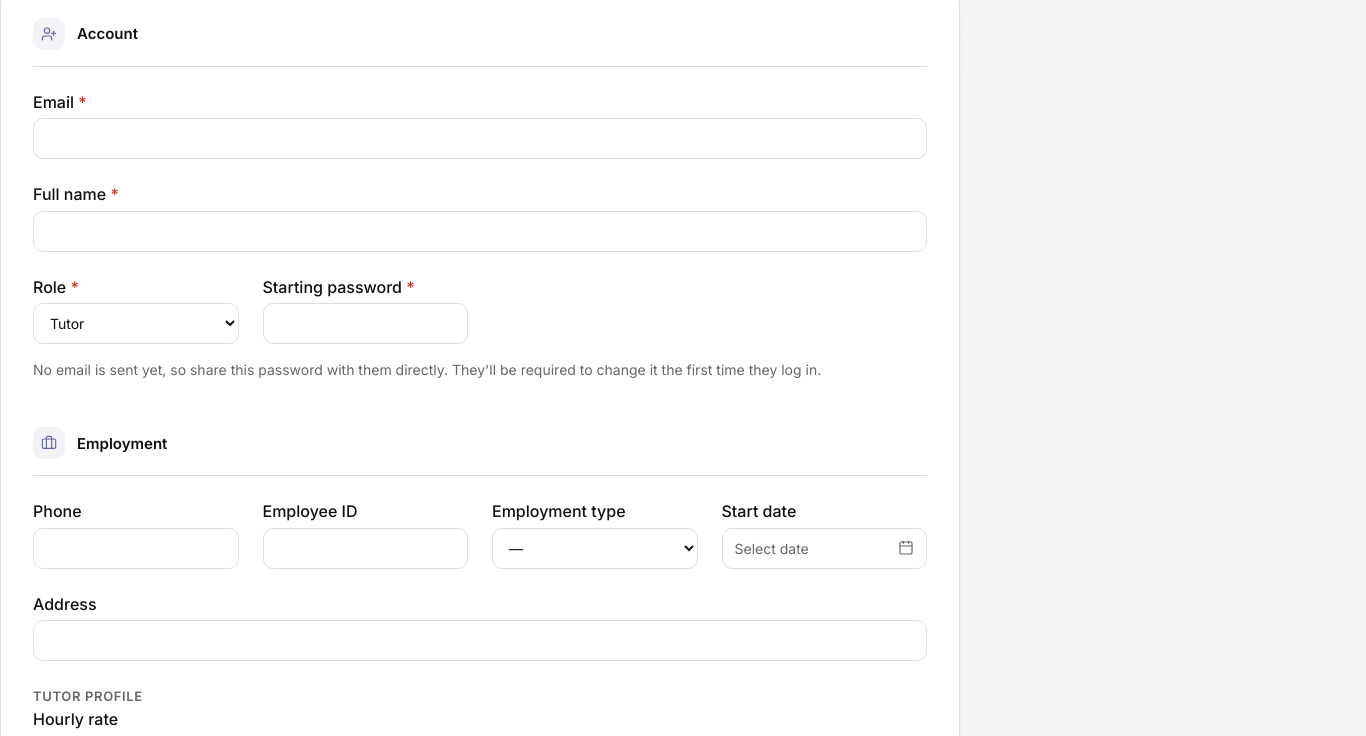
Test: CreateUserPage starting password field › renders a server-side password validation error
Type "a@b.com" into the field labelled "Email" at (480, 139), box [33,118,927,159]
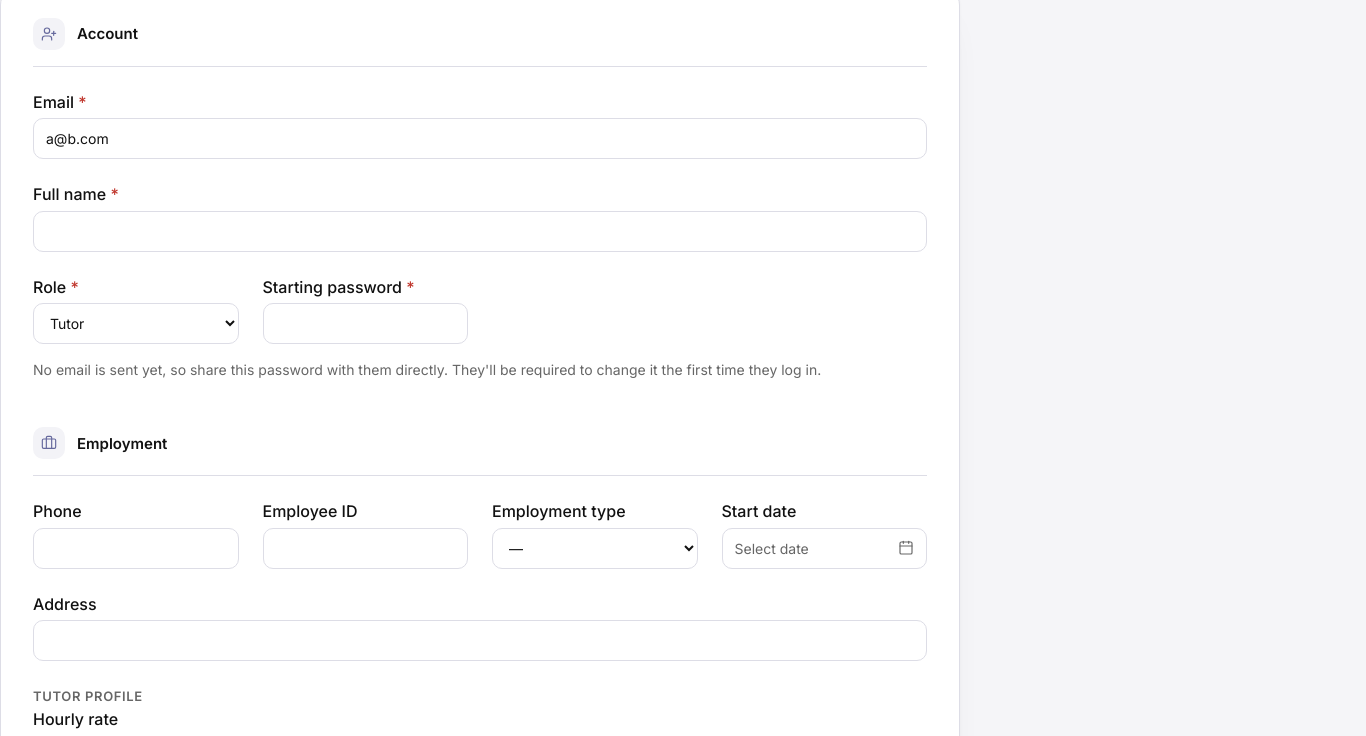
Type "A B" into the field labelled "Full name" at (480, 231), box [33,211,927,252]
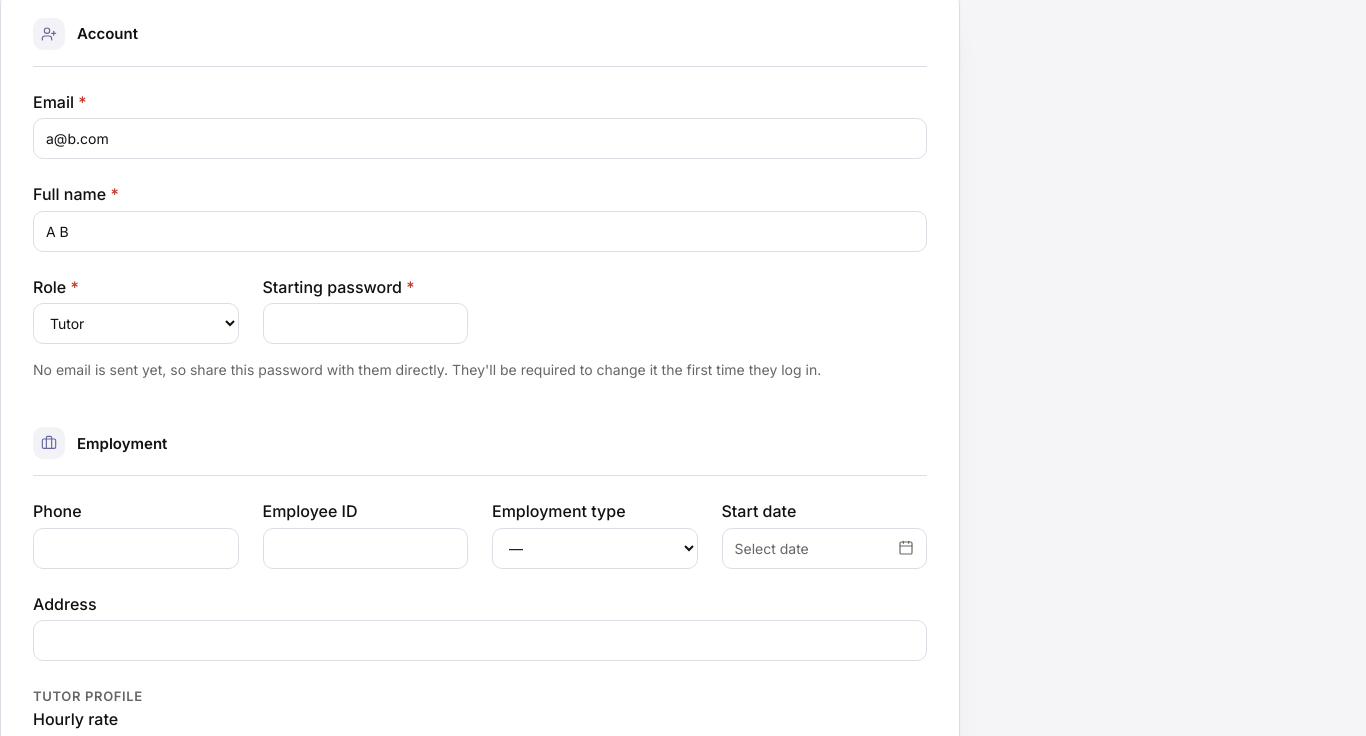
Type "password" into the password field labelled "Starting password" at (365, 324), box [262,303,468,344]
(page scrolled)
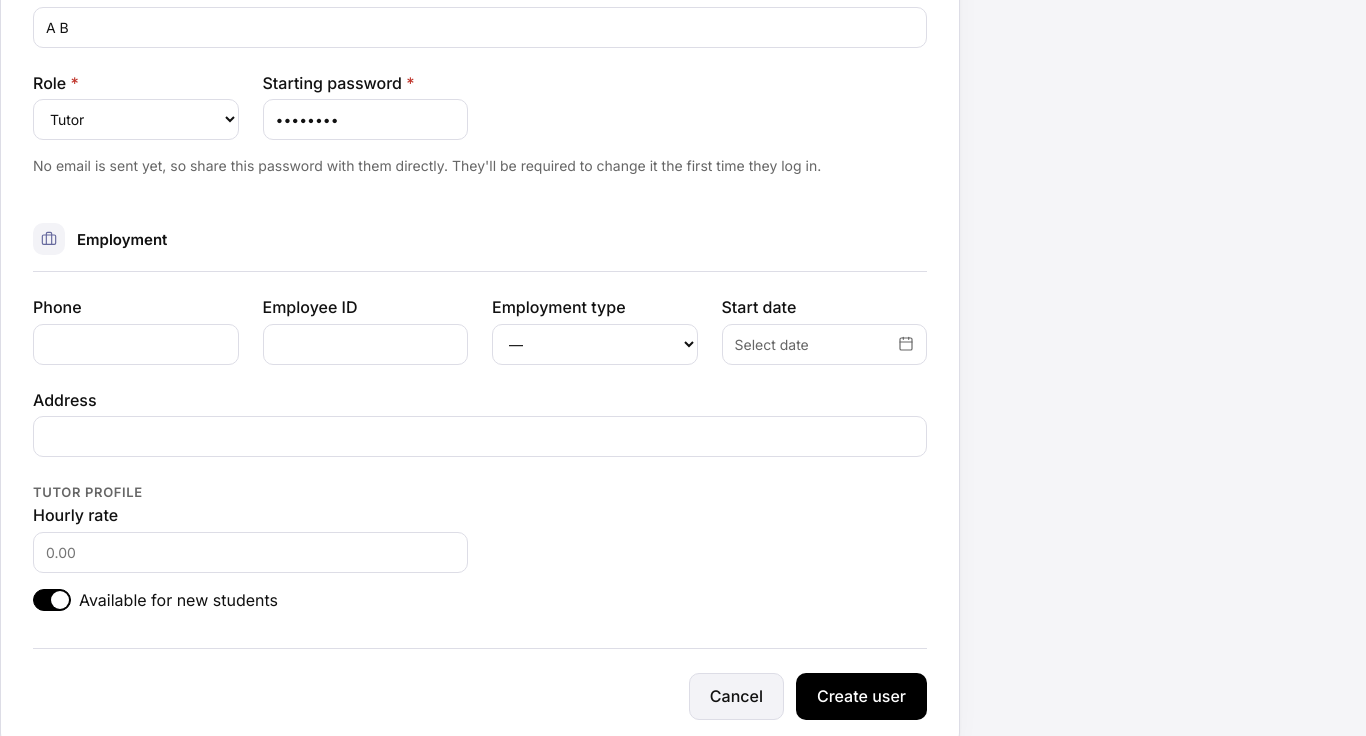
Click the button "Create user" at (862, 697), box [796,673,927,720]
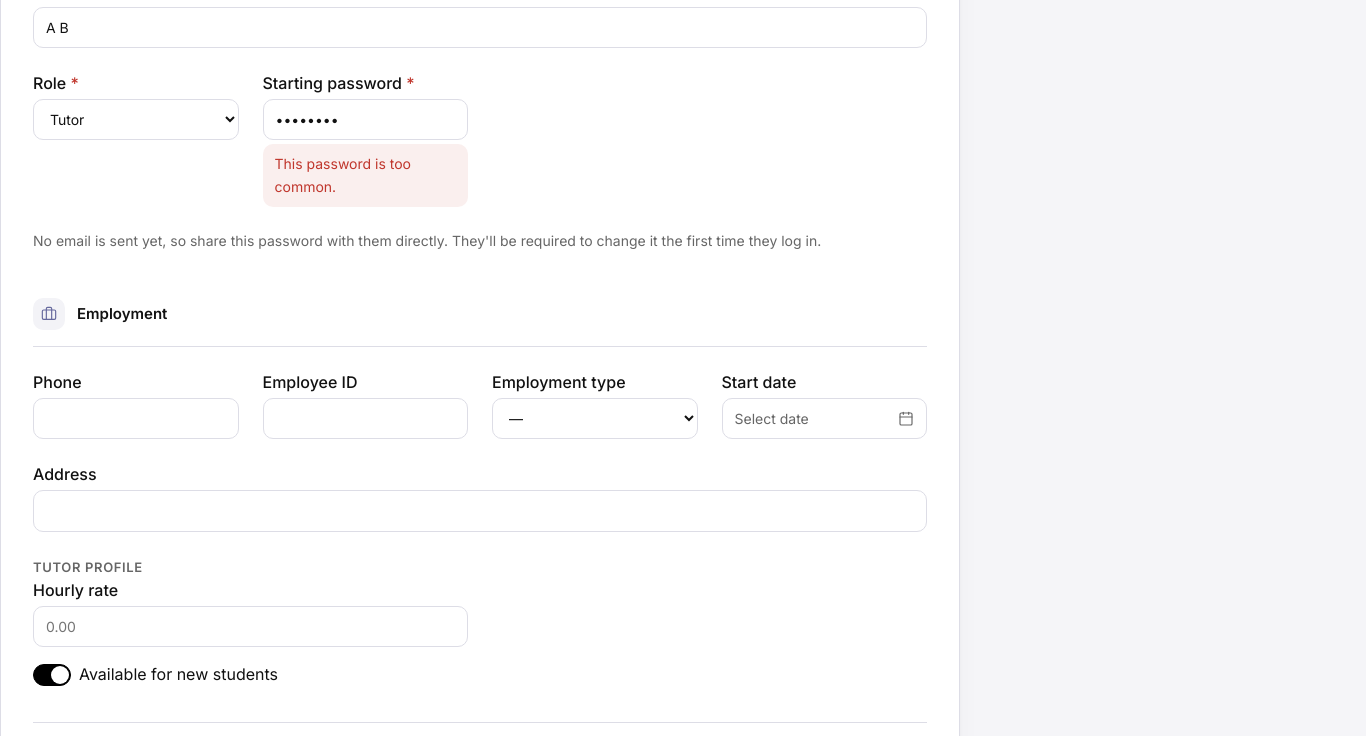
Result: the list item "This password is too common." is shown at [274,155,411,195]
